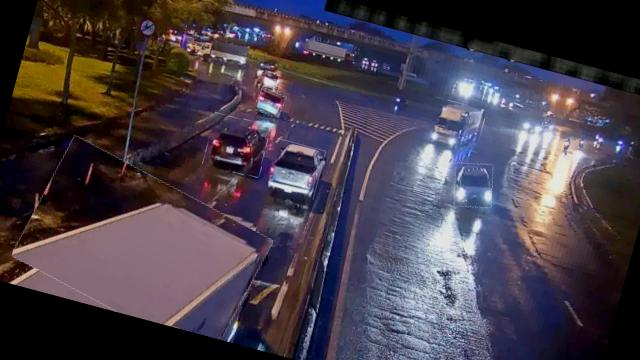Car: (201, 112, 271, 178), (264, 138, 324, 200), (446, 158, 498, 213), (253, 87, 286, 118)
Truck: (9, 140, 277, 345), (424, 97, 486, 153)
